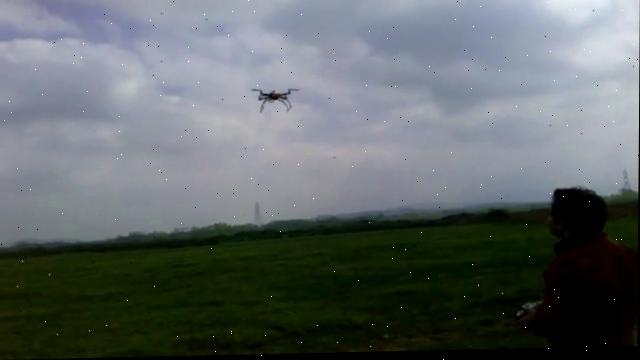drone: (249, 85, 303, 114)
